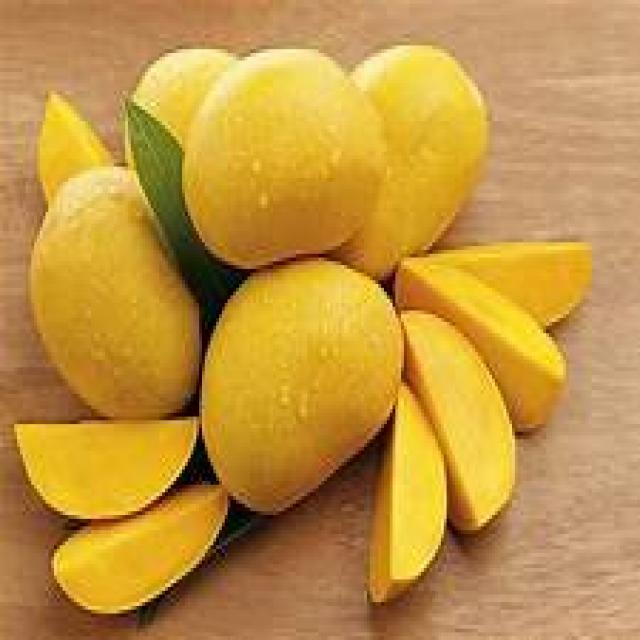Mango: (202, 258, 384, 508), (182, 45, 382, 259), (27, 169, 164, 414)
